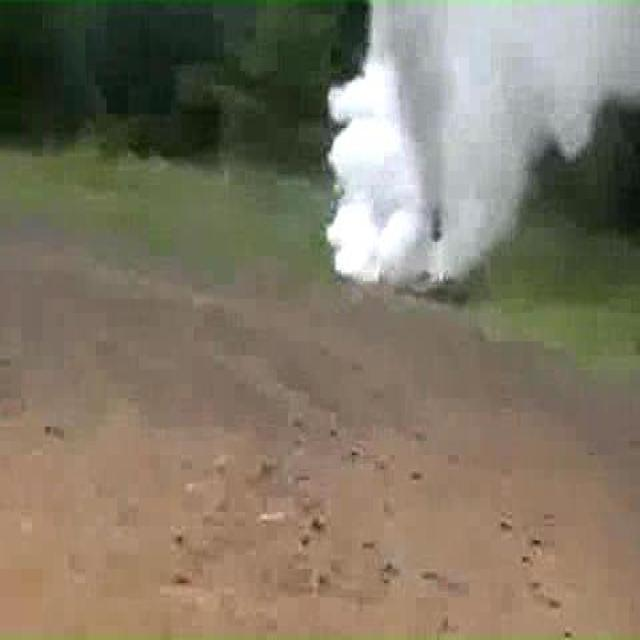Smoke: (326, 0, 639, 287)
